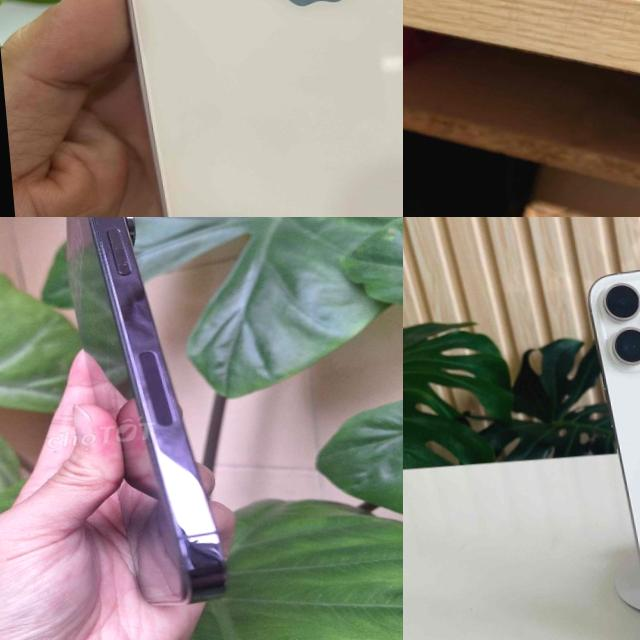gen_12_13: (78, 0, 403, 217)
gen_14: (35, 217, 240, 624), (403, 14, 544, 217)
gen_15: (574, 253, 640, 640)
